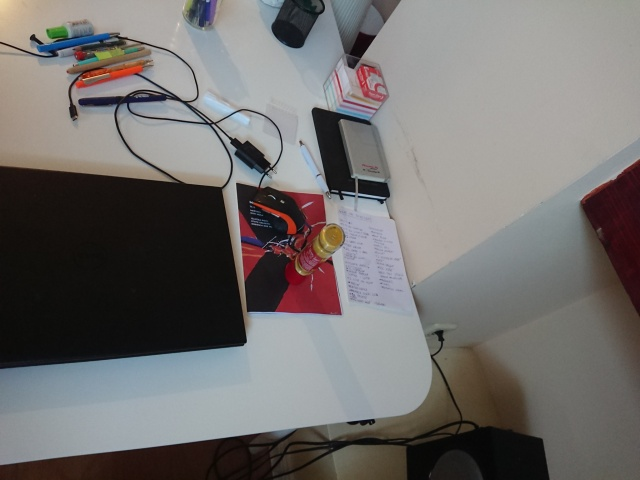Kotanyi Curry Spices Mix 70g: (293, 221, 347, 278)
